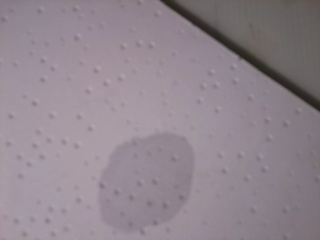Water_detected: (104, 140, 183, 214)
